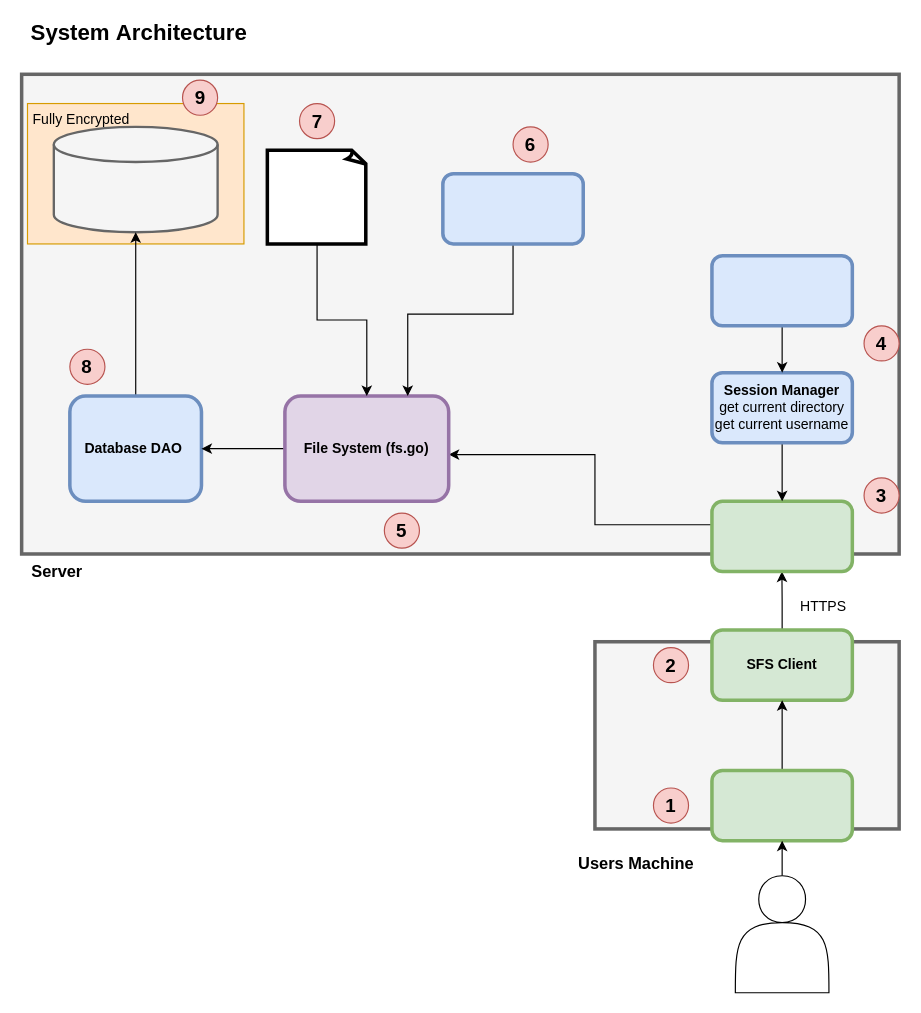
This 921x1013 diagram has some shape labels left out. The centre of each missing label's shape, as x and y in pixels:
Encryption.go: point (512, 208)
In-memory Session Provider: point (782, 290)
Secrets File: point (316, 196)
Server.go: point (782, 536)
SFS Shell: point (782, 805)
Users, Permission, Groups, CheckSums: point (135, 179)
